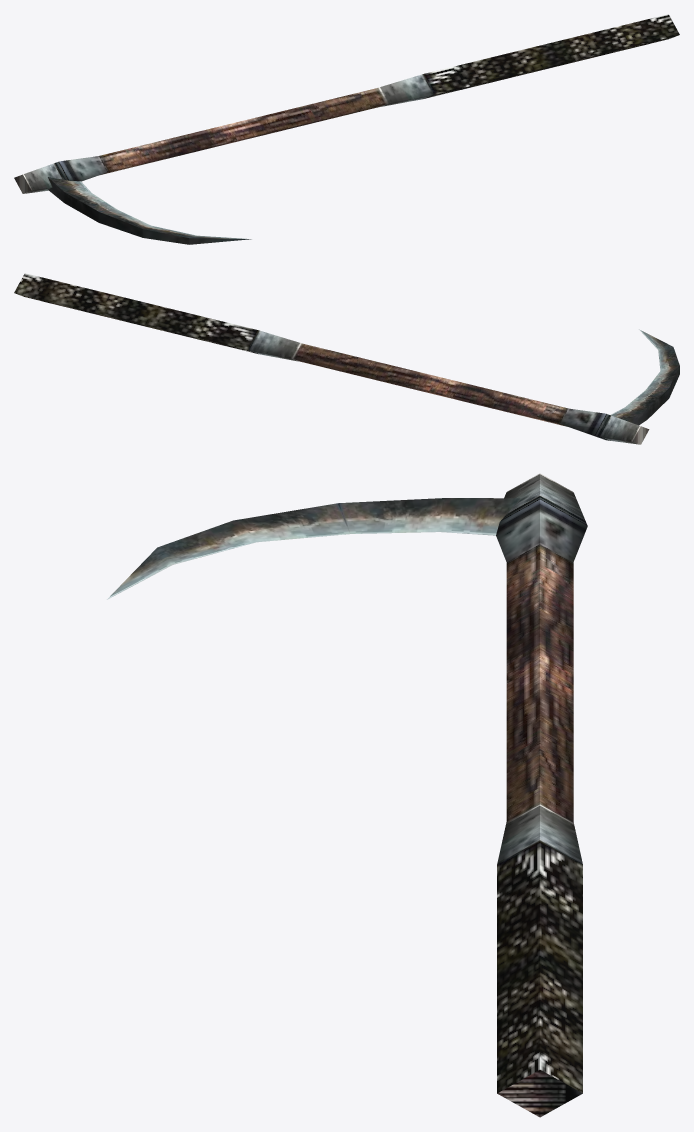
The model's file is ITMW_012_1H_SCYTHE_01.glb.
3 renders of one model, top to bottom at view 1: azimuth 30°, elevation 25°; view 2: azimuth 150°, elevation 25°; view 3: azimuth 270°, elevation 25°, orthographic. The views are drawn at different scales.
Parts seen in each view (by area): view 1: ITMW_012_1H_SCYTHE_01; view 2: ITMW_012_1H_SCYTHE_01; view 3: ITMW_012_1H_SCYTHE_01.
Boxes of the visible parts, <box> form: ITMW_012_1H_SCYTHE_01: <box>14,14,679,244</box>; ITMW_012_1H_SCYTHE_01: <box>14,273,679,444</box>; ITMW_012_1H_SCYTHE_01: <box>107,473,587,1117</box>.
Bounding box in the file's own units: 0.7839 × 0.0324 × 0.2653.
Materials: 2 (2 with a texture image).
